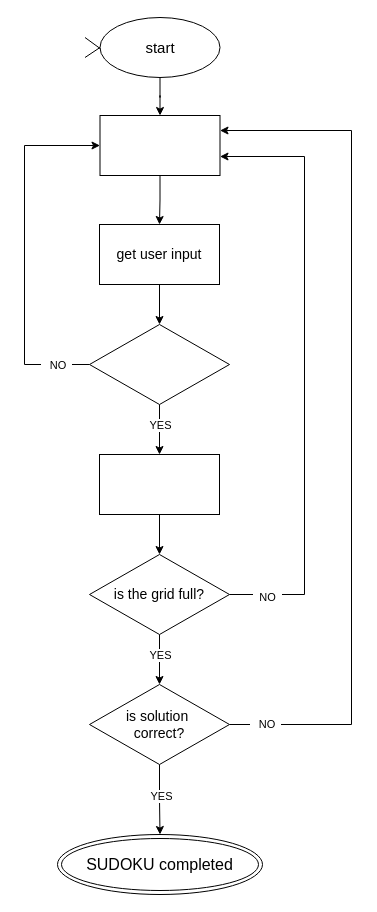
Image size: 377x912. Some labels were removed from this diagram. Each missing label, with the centre of its shape:
"is the input valid?" goes at (159,364).
"update and display grid" goes at (159,145).
"update matrix" goes at (159,484).
